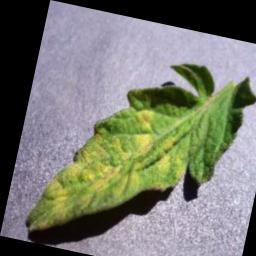Leaf_Mold: (24, 89, 197, 256)
